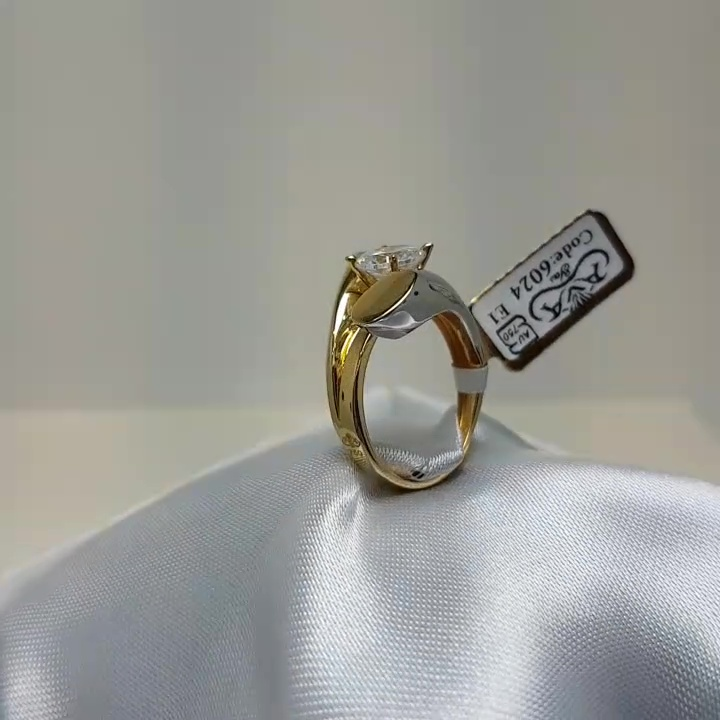Ring 7: (289, 225, 510, 546)
